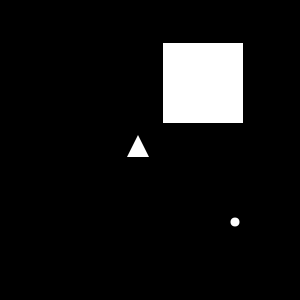circle: (163, 43, 243, 123)
rectangle: (230, 218, 240, 226)
triangle: (127, 135, 149, 157)
